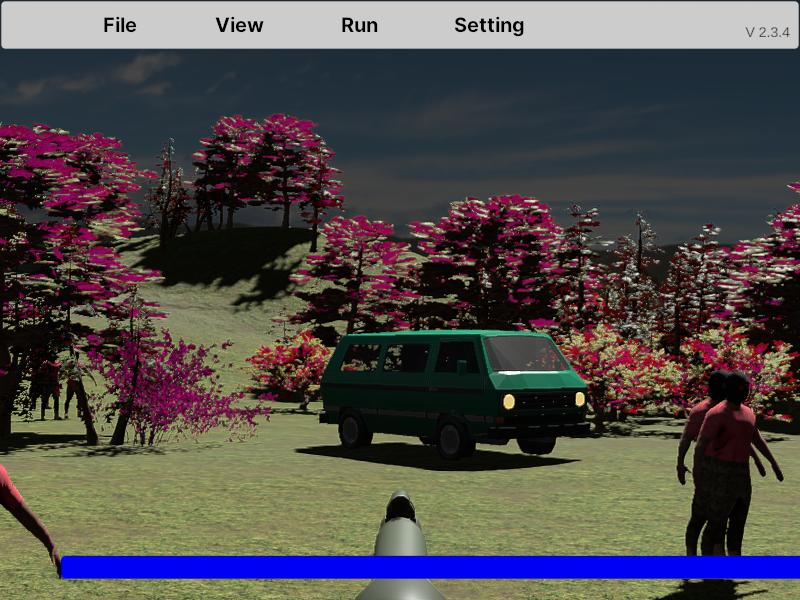Human: (693, 370, 784, 586), (0, 384, 59, 599)
car: (318, 327, 590, 460)
